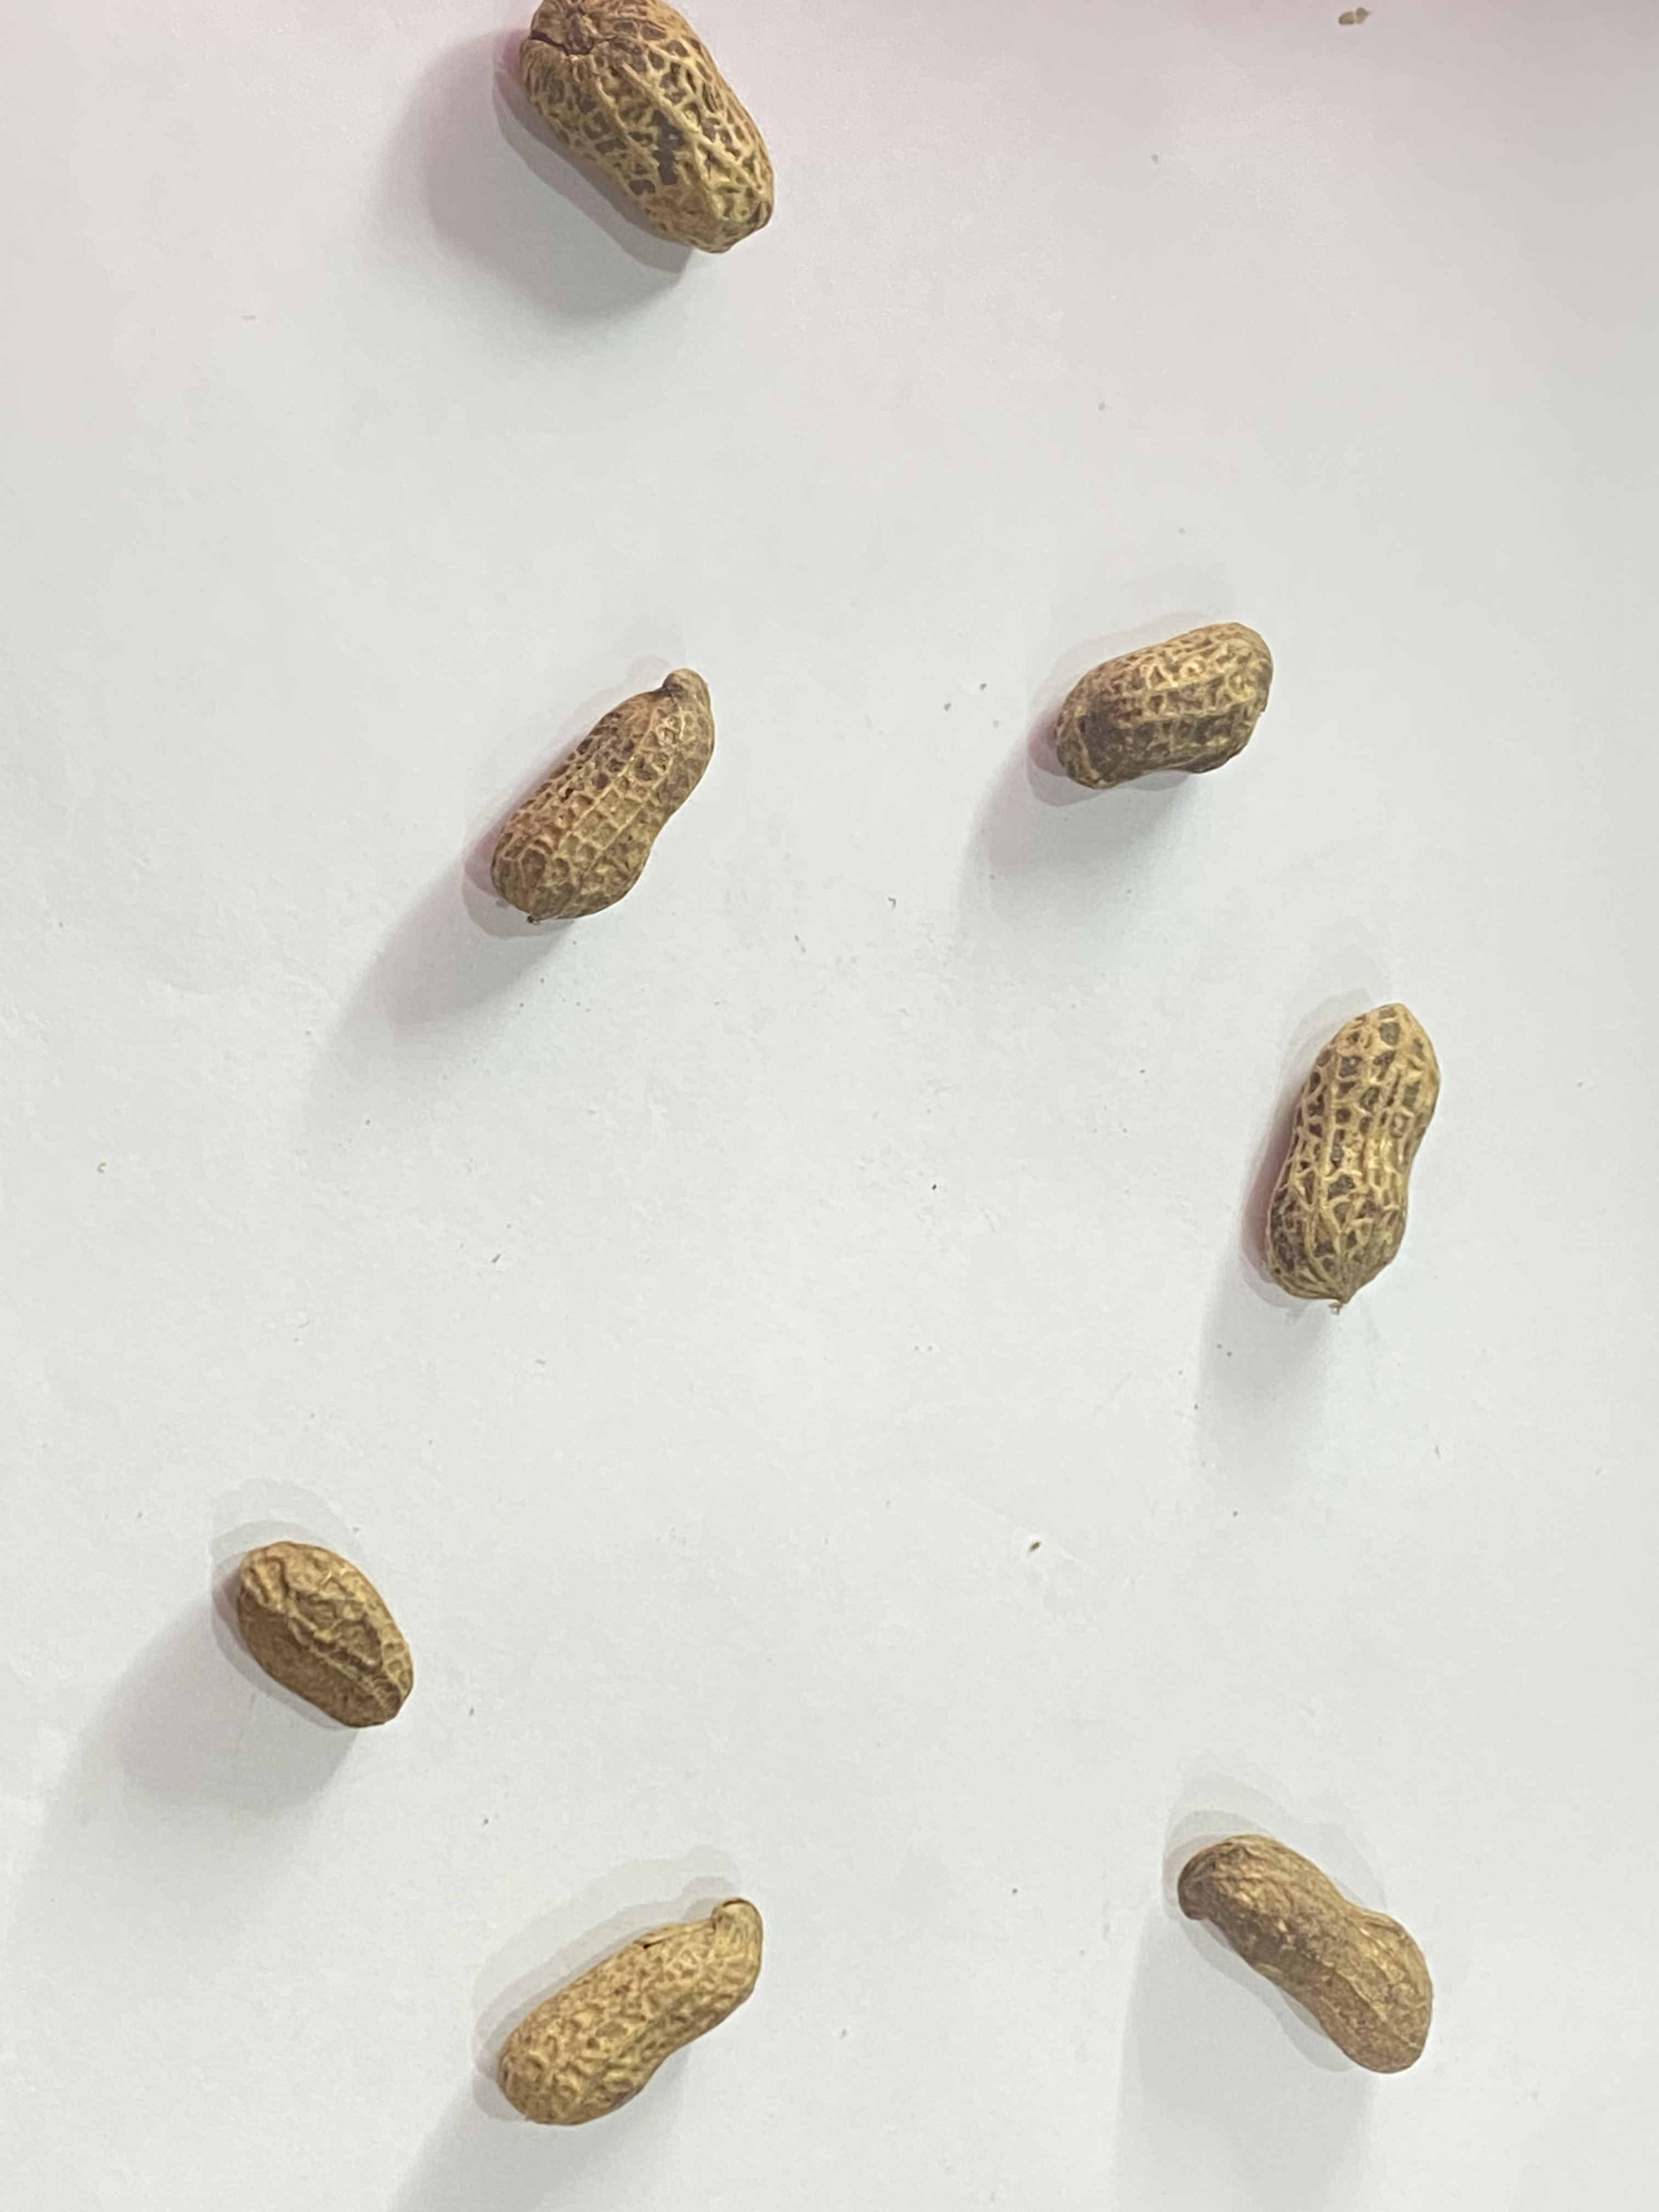kacang1: (446, 0, 892, 312), (1033, 582, 1345, 819), (166, 1527, 464, 1743)
kacang2: (1136, 1757, 1504, 2132), (460, 643, 772, 972), (1201, 993, 1509, 1318), (498, 1895, 803, 2151)
